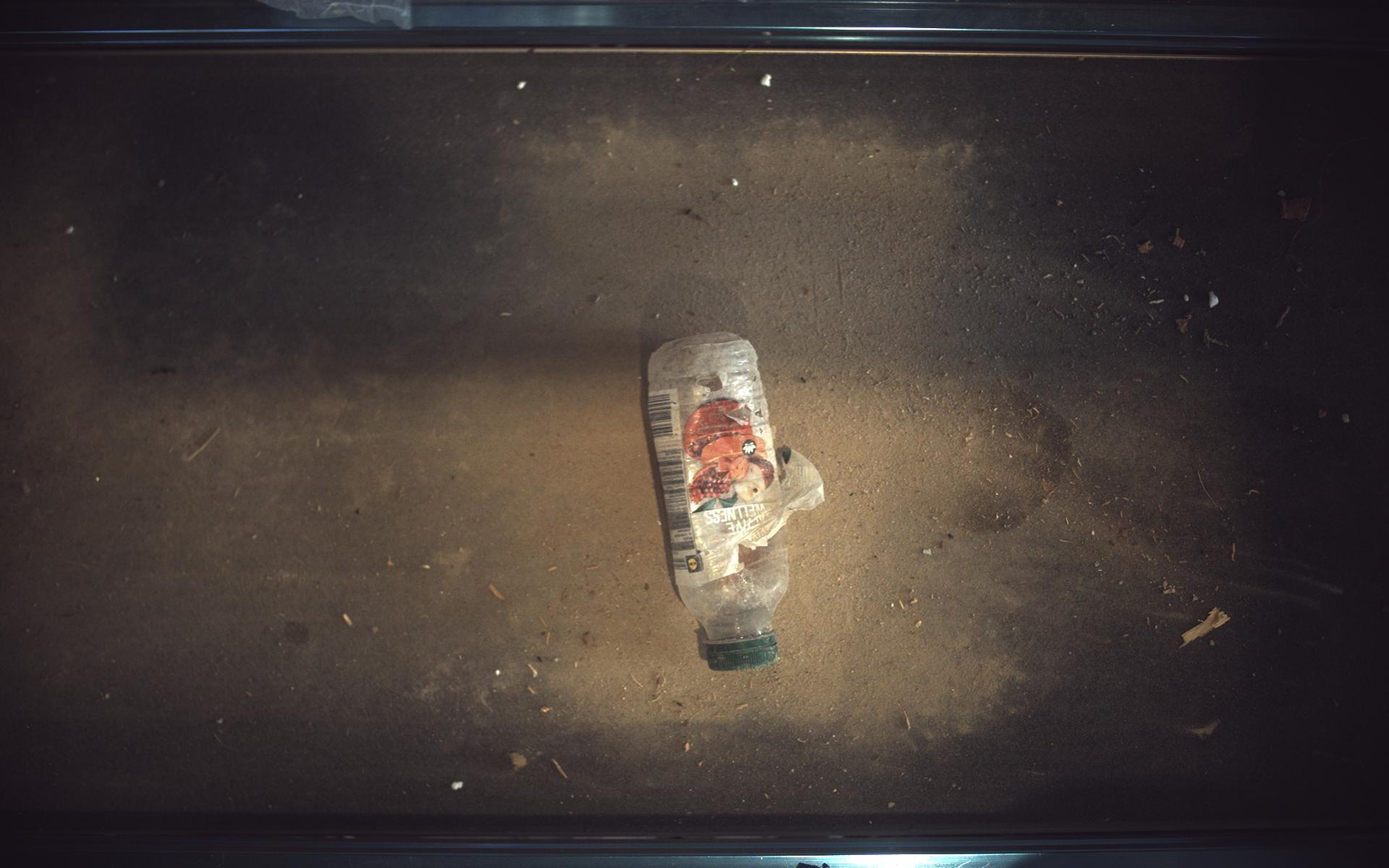general_w: (648, 332, 825, 671)
